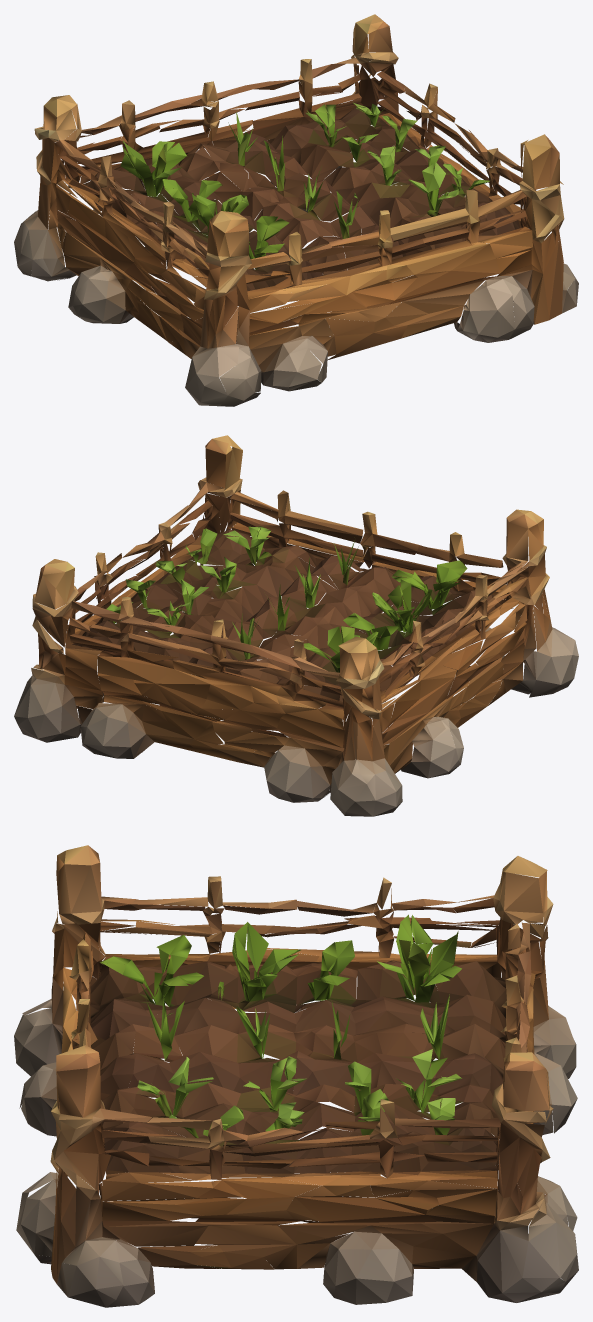
Rendered from building-garden.glb.
3 renders of one model, top to bottom at view 1: azimuth 30°, elevation 25°; view 2: azimuth 150°, elevation 25°; view 3: azimuth 270°, elevation 25°, orthographic. The views are drawn at different scales.
Visible parts, largest first — view 1: 0_garden; view 2: 0_garden; view 3: 0_garden.
Boxes of the visible parts, x1,y1,x2,y2 form: 0_garden: (14, 14, 578, 406); 0_garden: (14, 435, 578, 816); 0_garden: (14, 845, 578, 1307).
Bounding box in the file's own units: 3.84 × 1.65 × 3.57.
